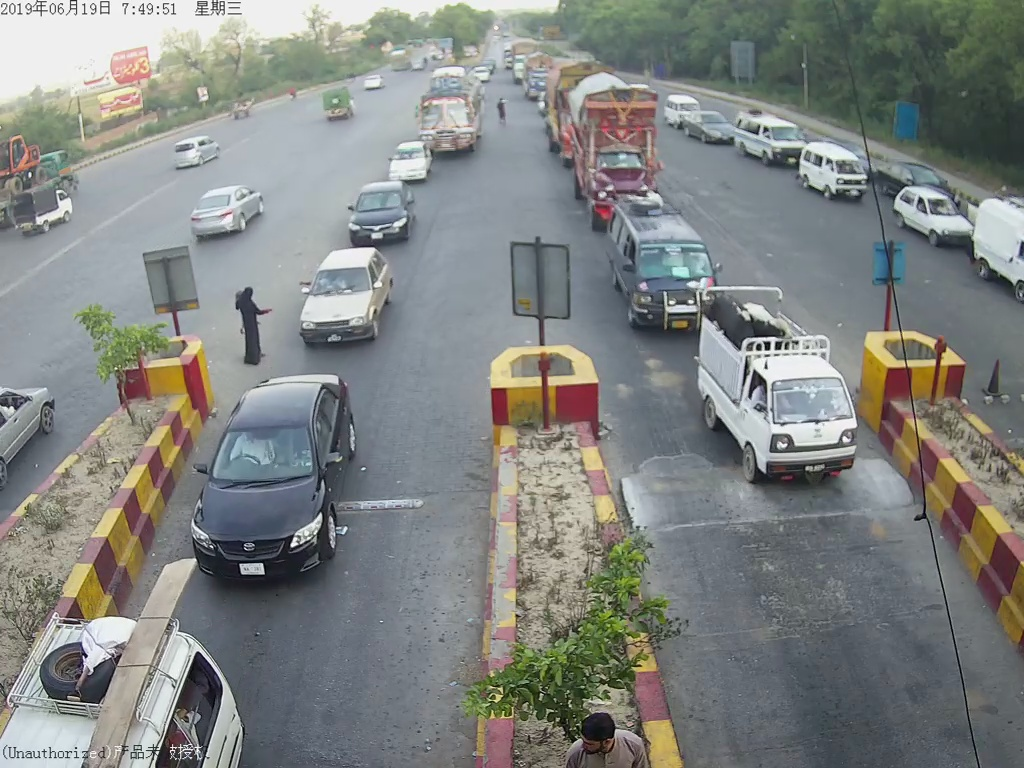Cat-1: (190, 373, 364, 577), (703, 289, 860, 483), (294, 246, 394, 346), (343, 177, 416, 245)
Cat-2: (601, 198, 722, 331)
Cat-3: (414, 59, 489, 158)
Cat-4: (572, 66, 661, 222)
